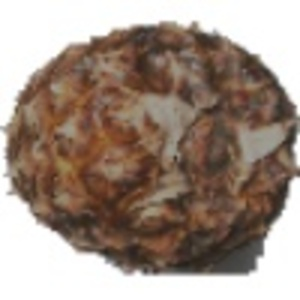abacaxi: (5, 14, 294, 274)
